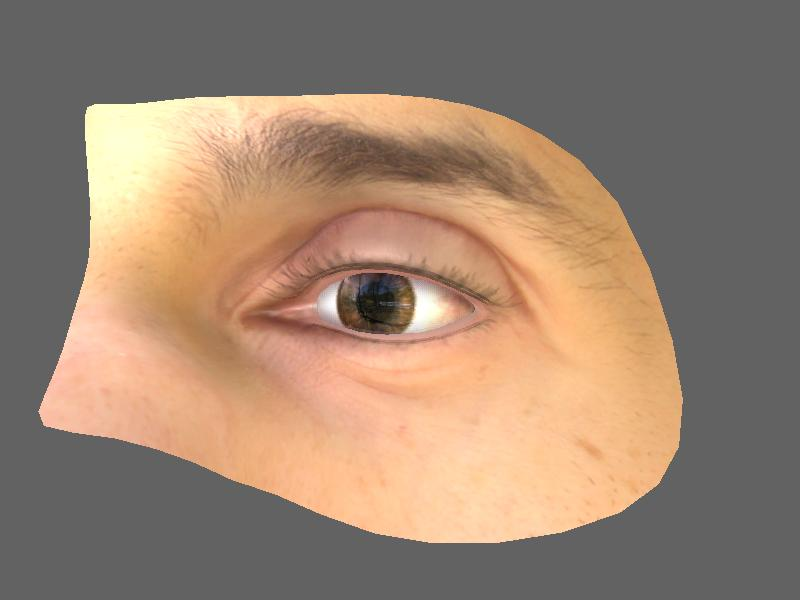iris: (335, 274, 428, 337)
